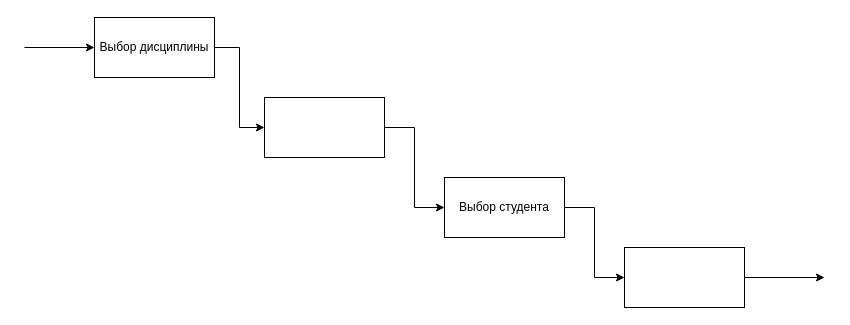
The diagram is 850 pixels wide and 325 high, and some of its shapes have lost their labels. Each missing label, with the centre of its shape:
"Выбор группы" belongs at point (324, 127).
"Постановка оценки" belongs at point (684, 277).
